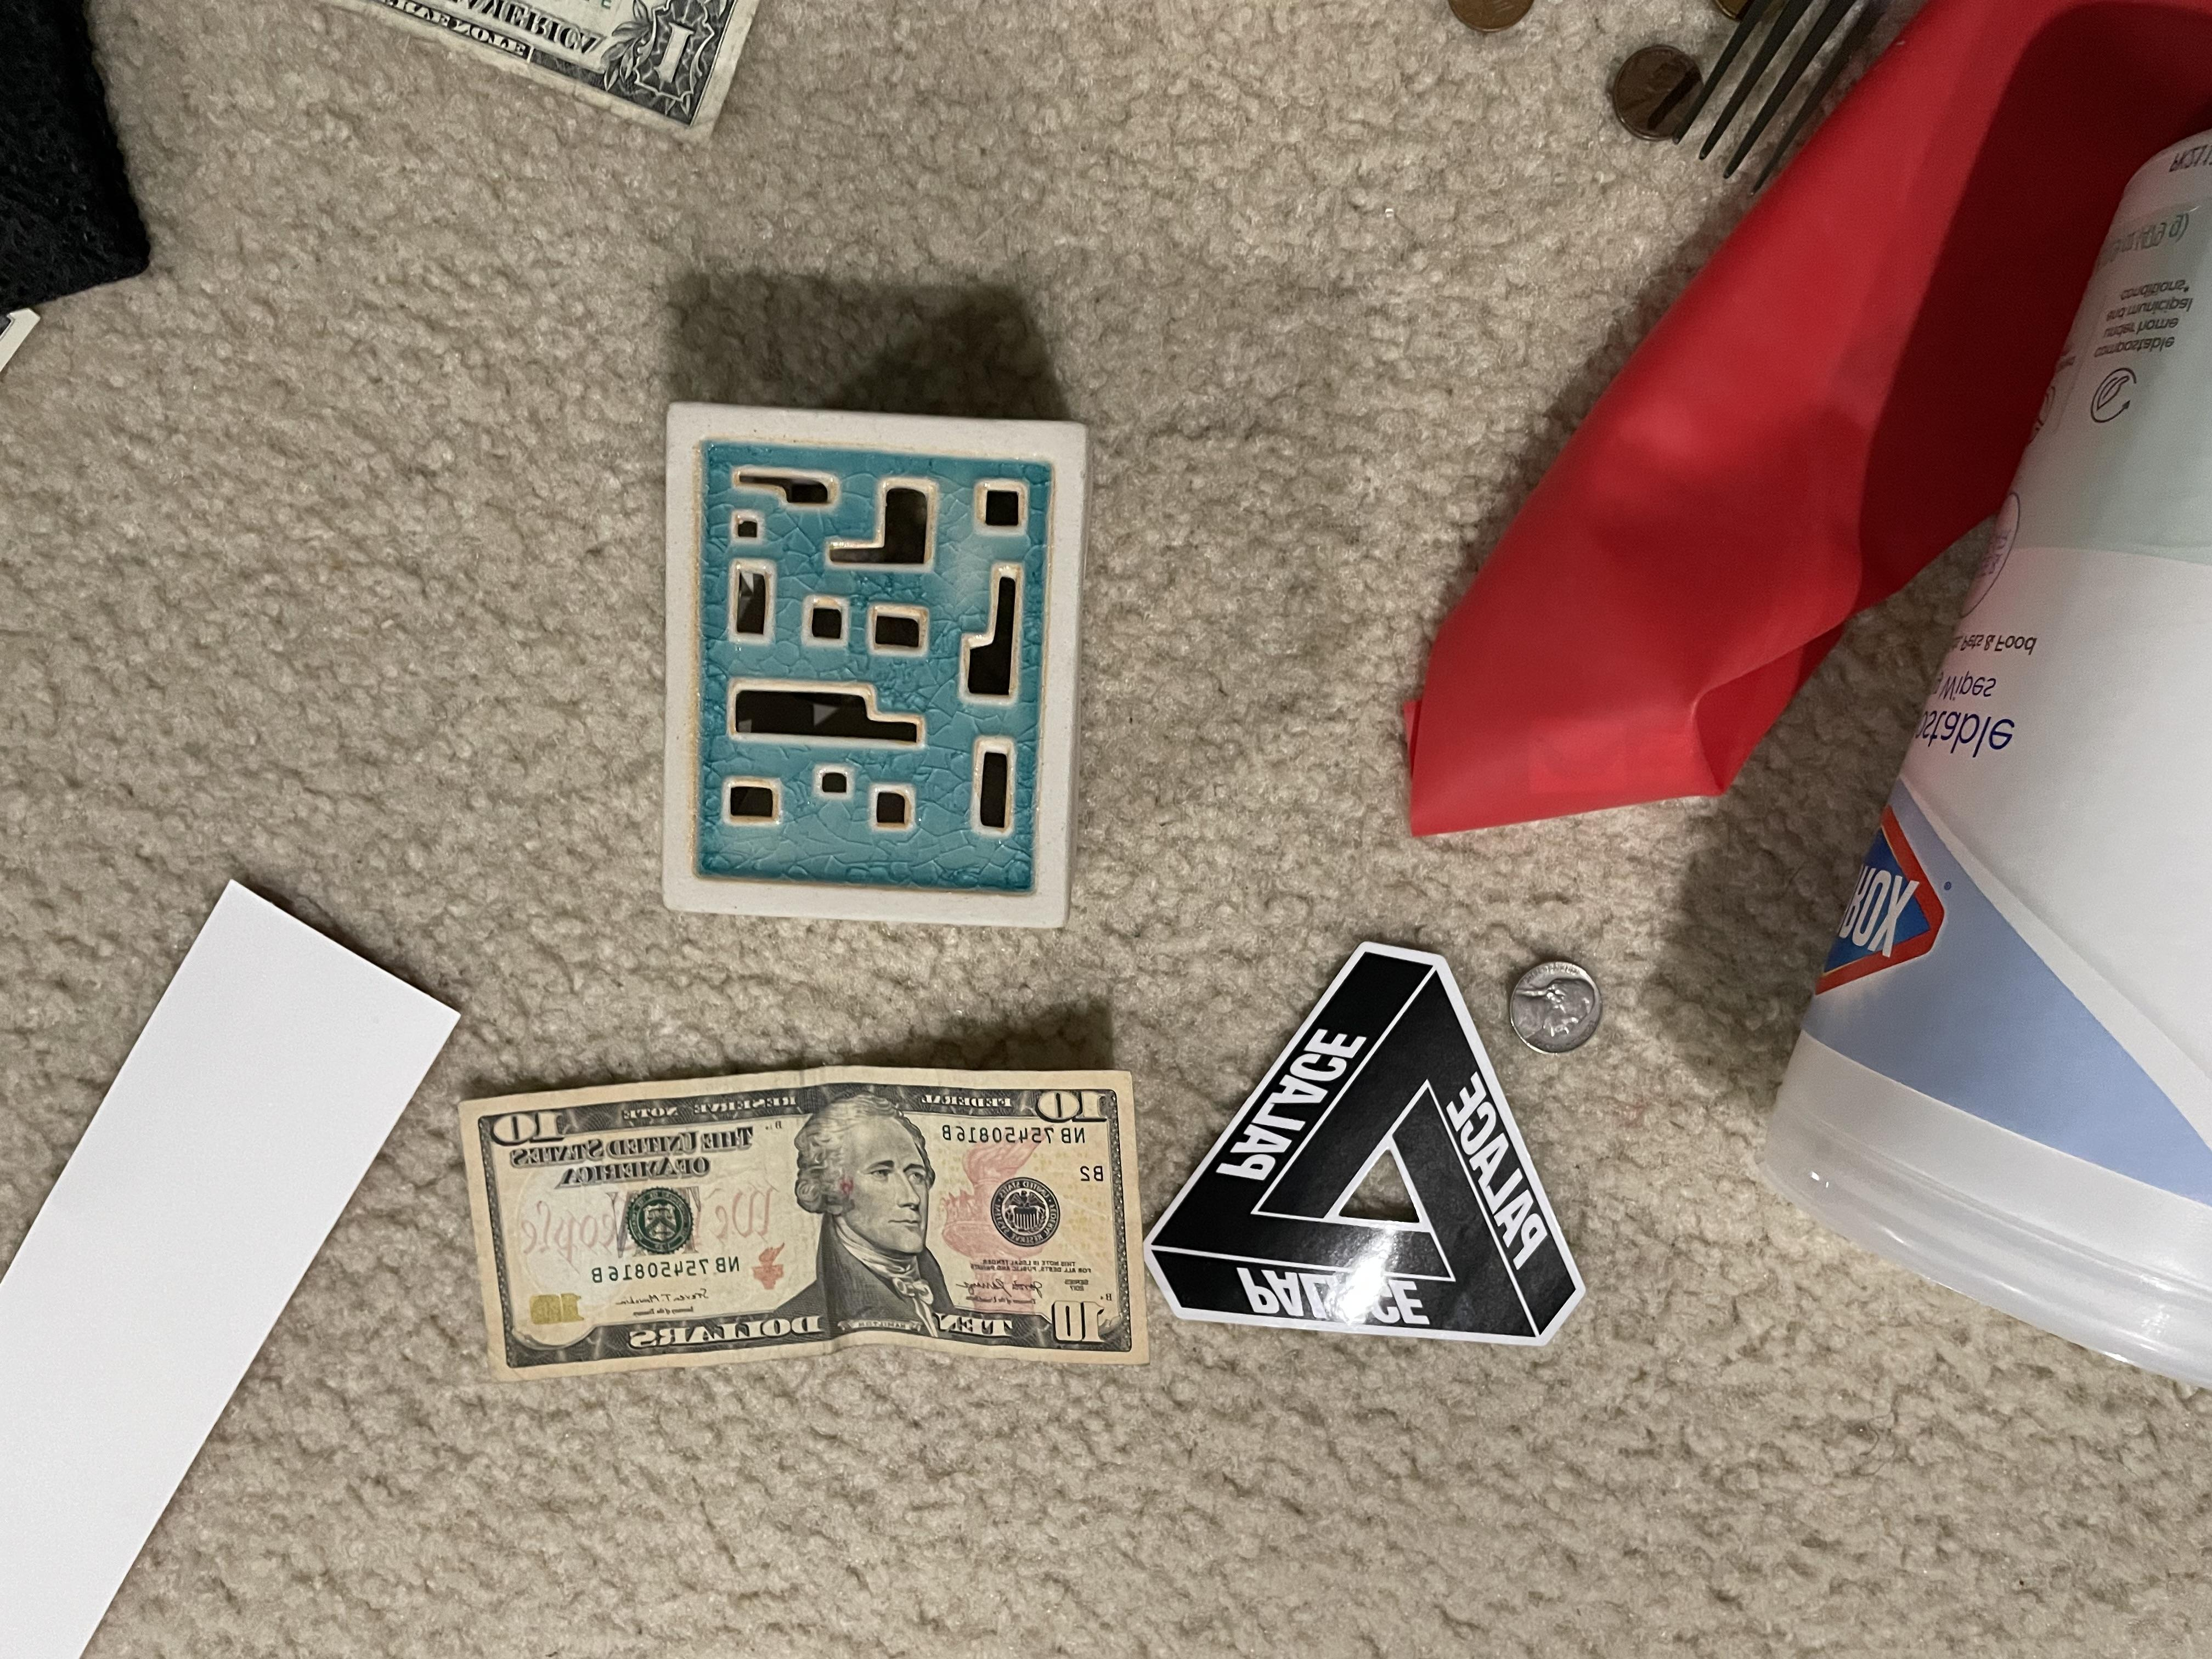Nickel: (1505, 967, 1620, 1060)
Penny: (1594, 56, 1709, 143)
TenBill: (463, 1060, 1151, 1385)
